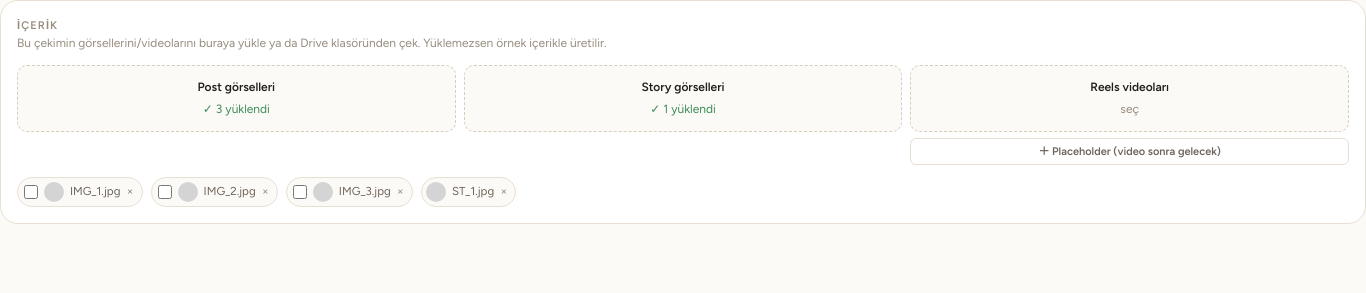
Scenario: ContentUploader — manual carousel creation › only shows the merge button once two or more are selected
Click the checkbox named "IMG_1.jpg — kaydırmalı için seç". click: (31, 192)
box: [24,185,38,199]
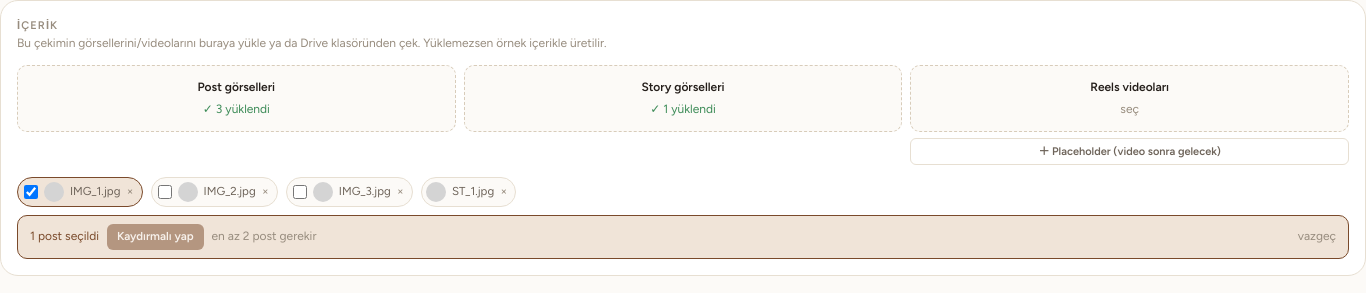
Expected: the button "Kaydırmalı yap" is disabled, [107,224,204,250]
Click the checkbox named "IMG_2.jpg — kaydırmalı için seç". click: (165, 192)
box: [158,185,172,199]
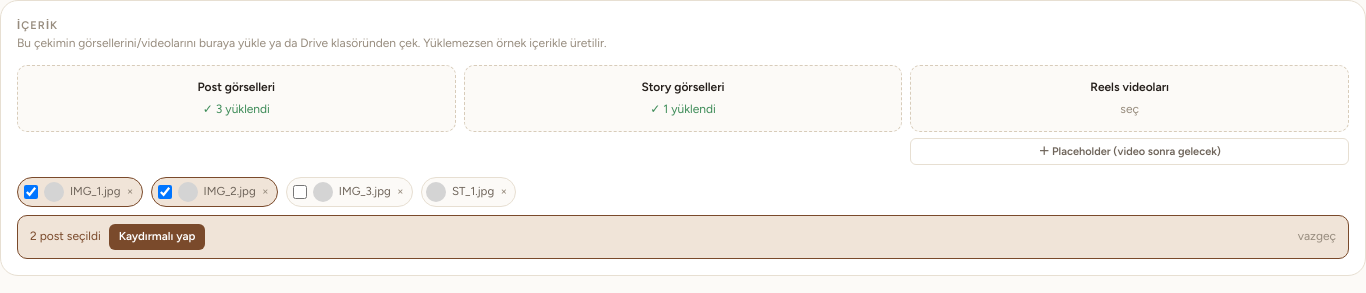
Expected: the button "Kaydırmalı yap" is enabled, [109,224,205,250]
